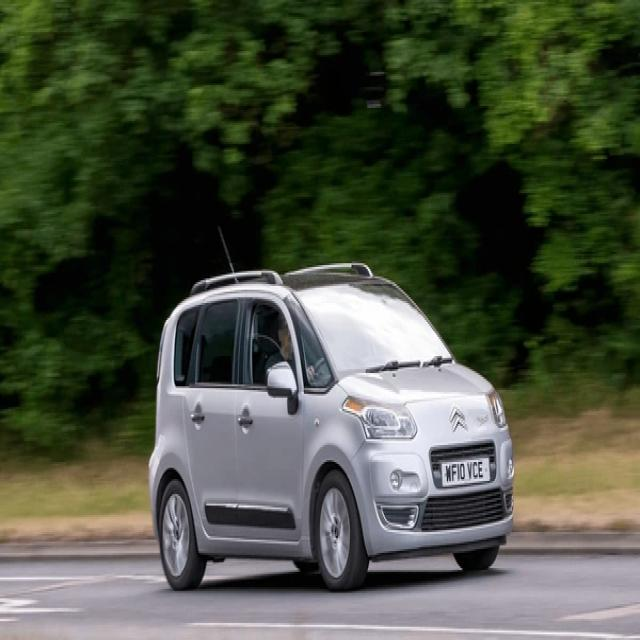citroen: (449, 404, 468, 434)
